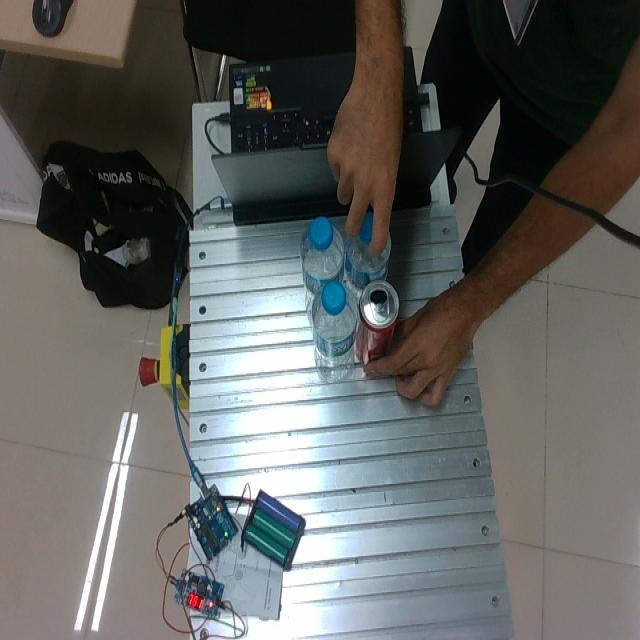coca: (355, 280, 399, 368)
lavie: (309, 279, 357, 381), (300, 216, 345, 303), (344, 213, 390, 295)
